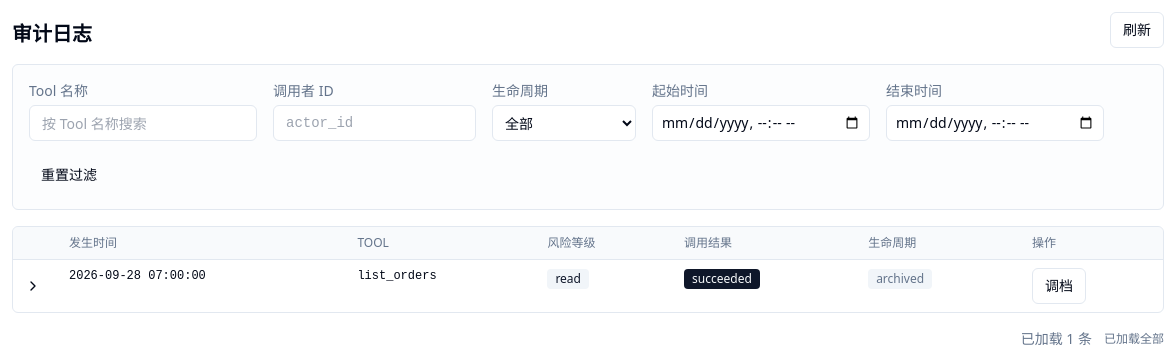
Test: AuditLogsTable › updates the row lifecycle_status to recalled after a successful recall
Expected: the row with test id "audit-log-row-arc" is shown, x1=13 y1=260 x2=1163 y2=312
What coordinates should you click on to do the following:
click the button with test id "recall-arc"
I would click on:
 (1059, 286)
Its box is x1=1032 y1=268 x2=1086 y2=304.
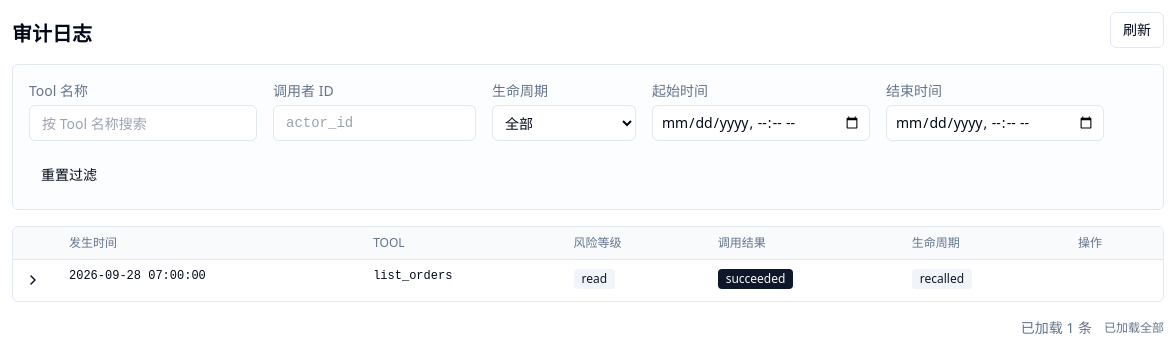
Expected: the text with test id "lifecycle-badge-arc" reads "recalled", x1=920 y1=270 x2=964 y2=287
